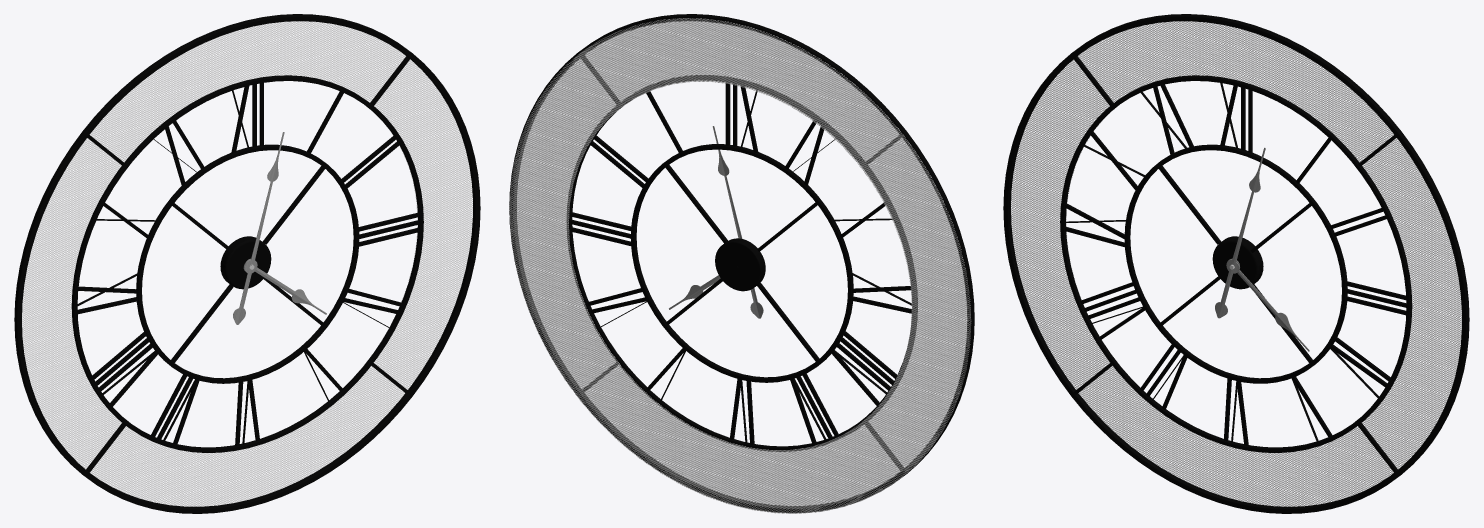
The picture shows the model from 3 angles, left to right: view 1: azimuth 30°, elevation 25°; view 2: azimuth 150°, elevation 25°; view 3: azimuth 330°, elevation 25°; orthographic projection.
Visible parts, largest first — view 1: default_1_1; view 2: default_1_1; view 3: default_1_1.
Part boxes in pixels (box(x1,y1,x2,y2)): default_1_1: box(14, 14, 480, 513); default_1_1: box(509, 14, 974, 513); default_1_1: box(1003, 14, 1469, 513).
Bounding box in the file's own units: 90 × 90 × 3.08.
Materials: 4 (2 with a texture image).
